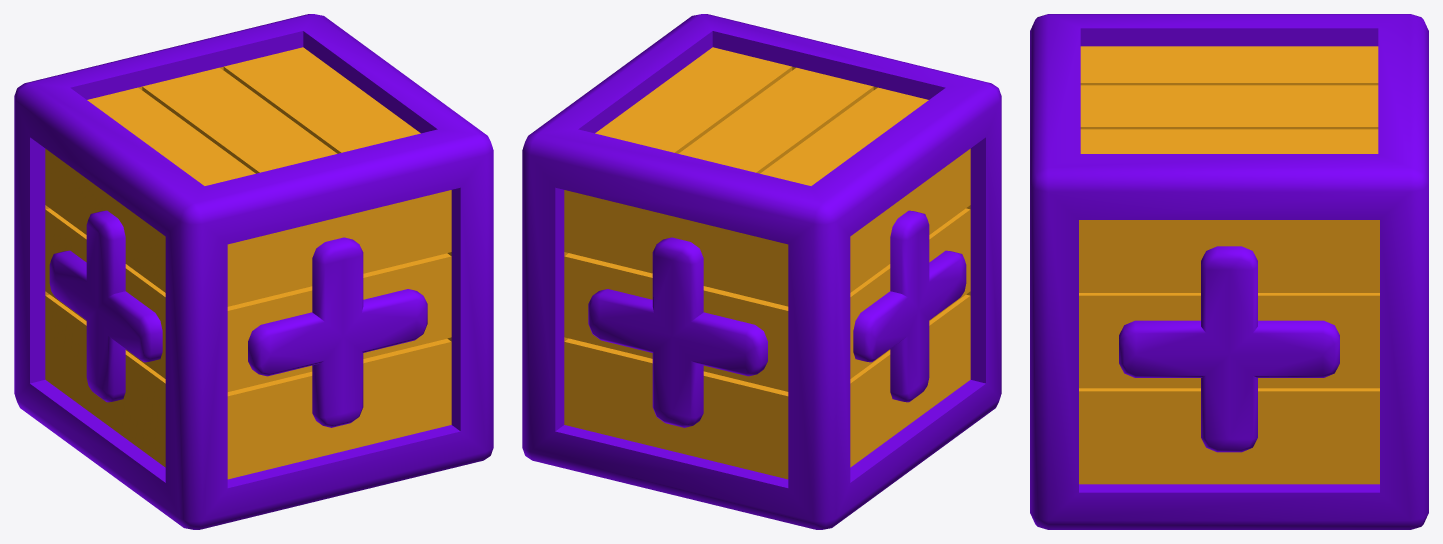
File: Crate_07.fbx
The picture shows the model from 3 angles, left to right: view 1: azimuth 30°, elevation 25°; view 2: azimuth 150°, elevation 25°; view 3: azimuth 270°, elevation 25°; orthographic projection. The views are drawn at different scales.
Visible parts, largest first — view 1: Obstacle_Crate_07; view 2: Obstacle_Crate_07; view 3: Obstacle_Crate_07.
Part boxes in pixels (x1,y1,x2,y2): Obstacle_Crate_07: (14,14,493,529); Obstacle_Crate_07: (522,14,1001,529); Obstacle_Crate_07: (1030,14,1428,529).
Bounding box in the file's own units: 50.1 × 50 × 50.
Materials: 1 (1 with a texture image).
